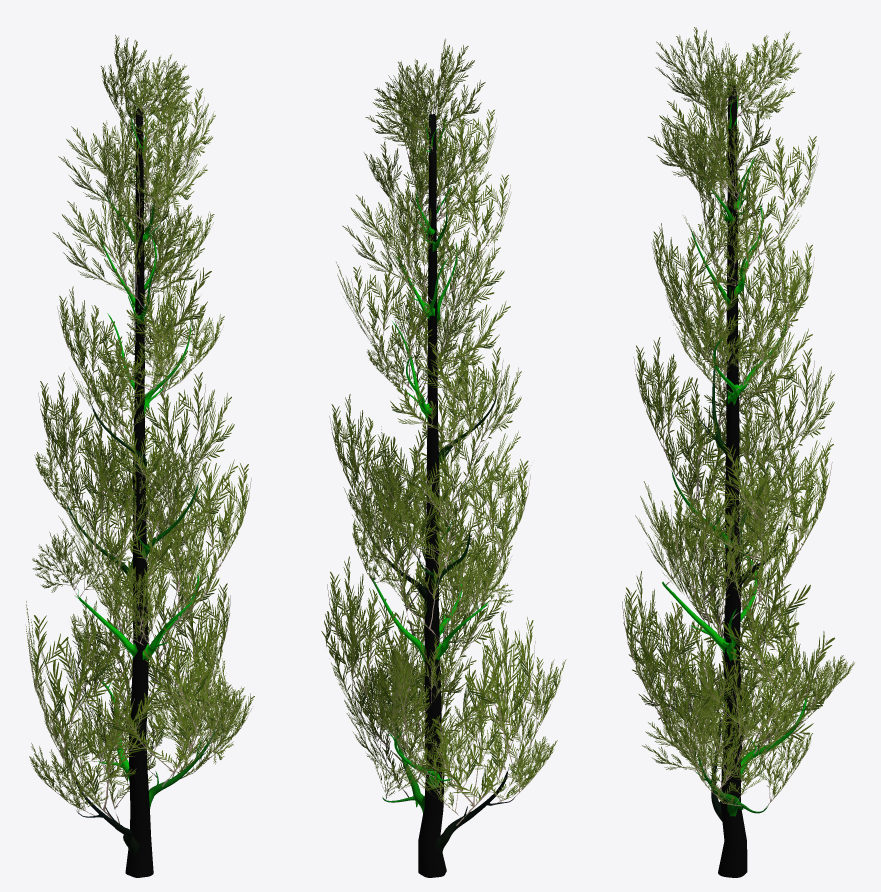
File: juniper.fbx
3 renders of one model, left to right at view 1: azimuth 30°, elevation 25°; view 2: azimuth 150°, elevation 25°; view 3: azimuth 270°, elevation 25°, orthographic. The views are drawn at different scales.
Visible parts, largest first — view 1: juniper branch_1, bark05_0; view 2: juniper branch_1, bark05_0; view 3: juniper branch_1, bark05_0.
Boxes of the visible parts, x1,y1,x2,y2 form: juniper branch_1: (26,35,254,823); bark05_0: (66,100,215,877); juniper branch_1: (321,38,566,825); bark05_0: (367,114,514,877); juniper branch_1: (622,27,854,809); bark05_0: (662,83,808,877).
Bounding box in the file's own units: 278 × 920 × 252.
Materials: 1 (1 with a texture image).
